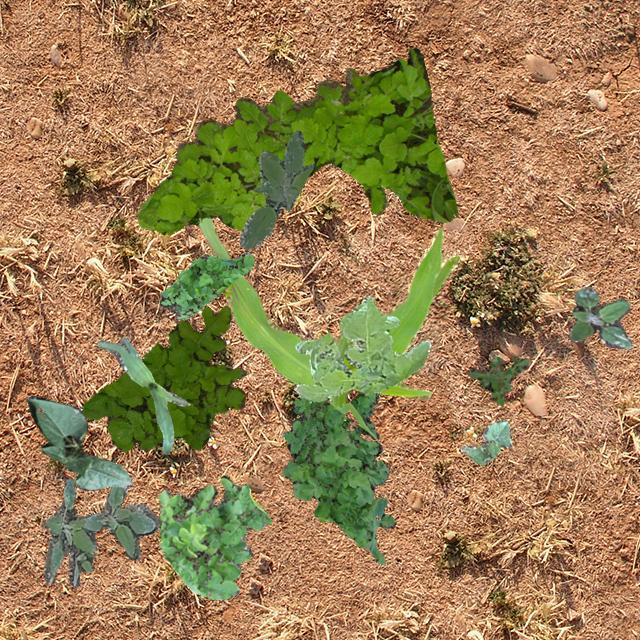crop: (196, 216, 458, 408), (95, 336, 188, 454), (27, 394, 132, 490), (460, 418, 510, 464)
weed: (136, 46, 457, 234), (80, 304, 246, 452), (280, 390, 394, 562), (292, 294, 430, 400), (158, 474, 270, 598), (42, 476, 158, 586), (238, 130, 312, 248), (158, 252, 252, 318), (566, 286, 630, 348), (468, 354, 528, 404)
